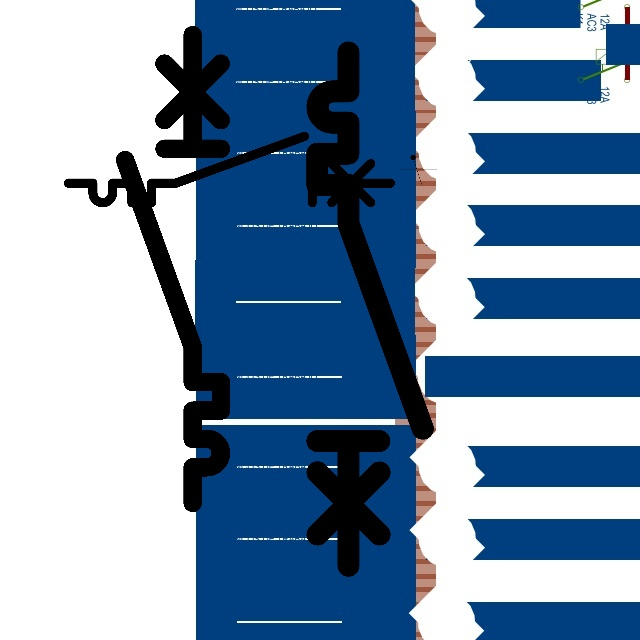interruptor_termomagnetico: (304, 39, 436, 579), (113, 23, 233, 515), (60, 128, 398, 211)
